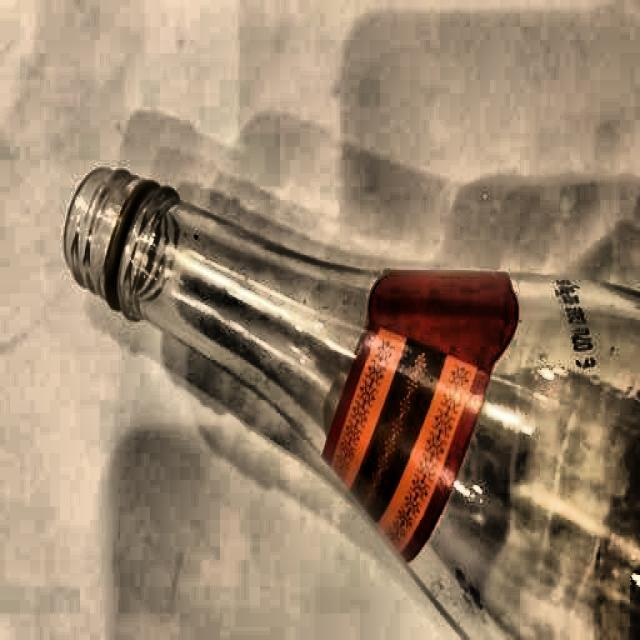glass: (61, 163, 640, 640)
